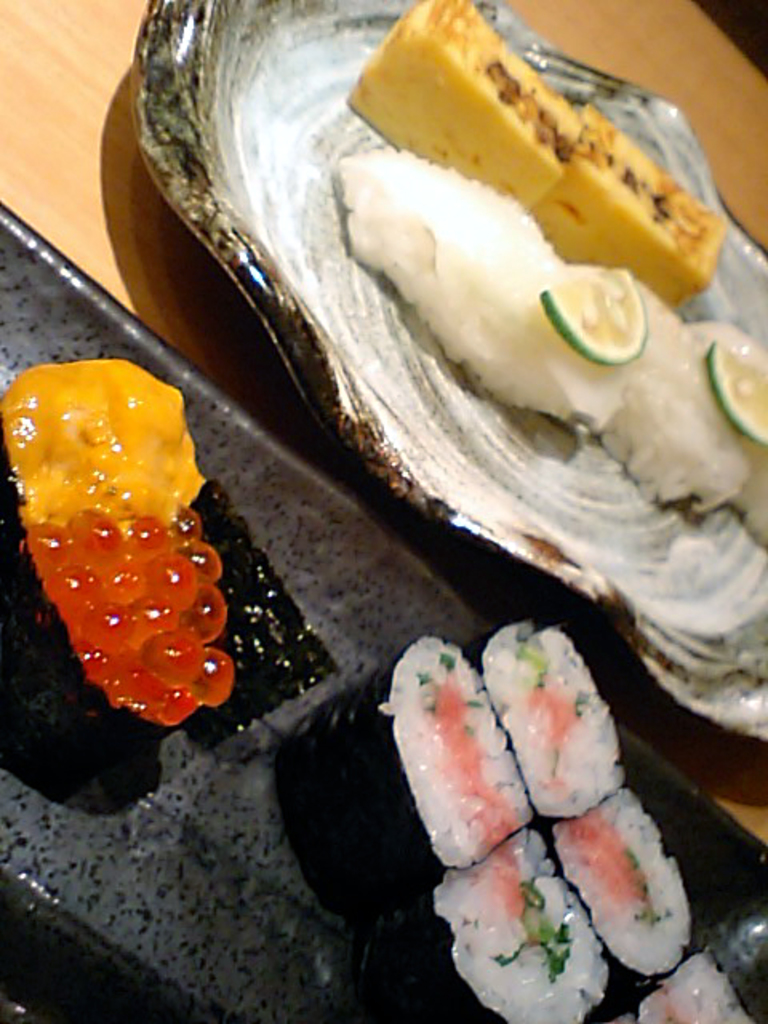sushi: (269, 626, 760, 1022), (0, 357, 336, 766), (258, 637, 544, 907)
